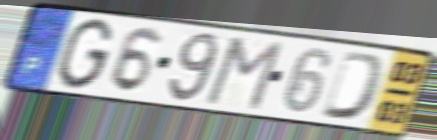6: (107, 25, 163, 95), (281, 46, 334, 116)
9: (165, 30, 222, 104)
D: (318, 48, 390, 123)
G: (53, 16, 116, 92)
M: (201, 35, 287, 113)
